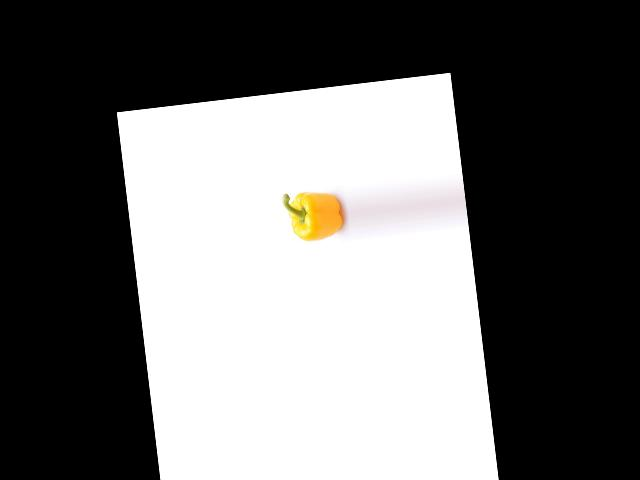bell_pepper: (284, 185, 346, 248)
